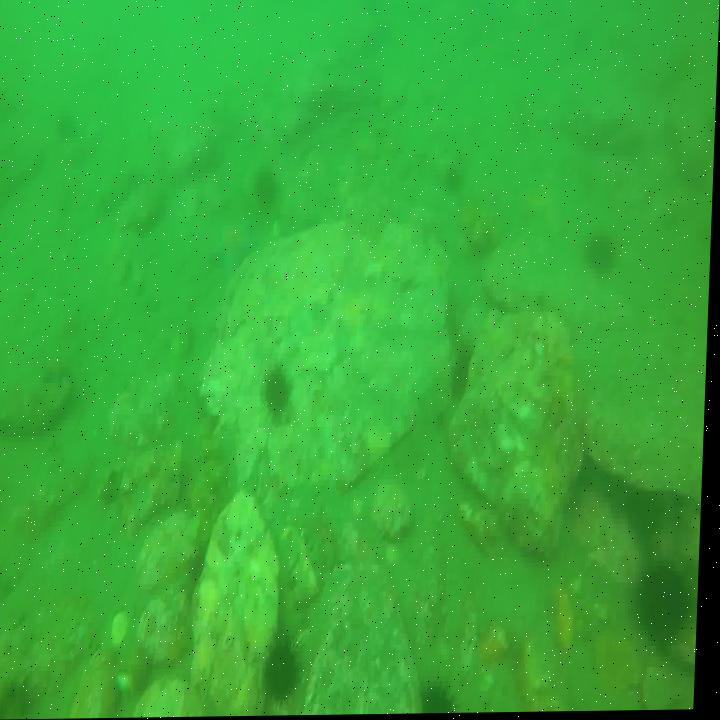echinus: (637, 561, 697, 648), (265, 636, 308, 711), (628, 495, 671, 554), (582, 233, 618, 279), (266, 368, 297, 417), (417, 682, 461, 715), (452, 351, 476, 399), (255, 169, 282, 203)
starfish: (211, 220, 261, 281)
